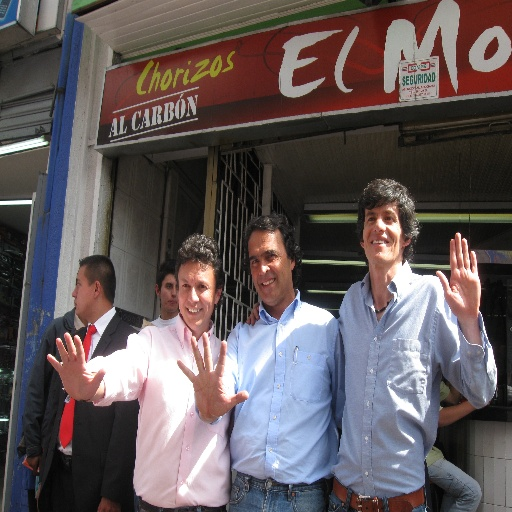hand: (175, 331, 249, 419), (445, 230, 485, 344), (45, 330, 105, 401), (245, 302, 260, 329), (98, 496, 120, 511), (27, 456, 40, 478)
